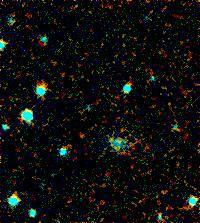star: (68, 121, 98, 151)
